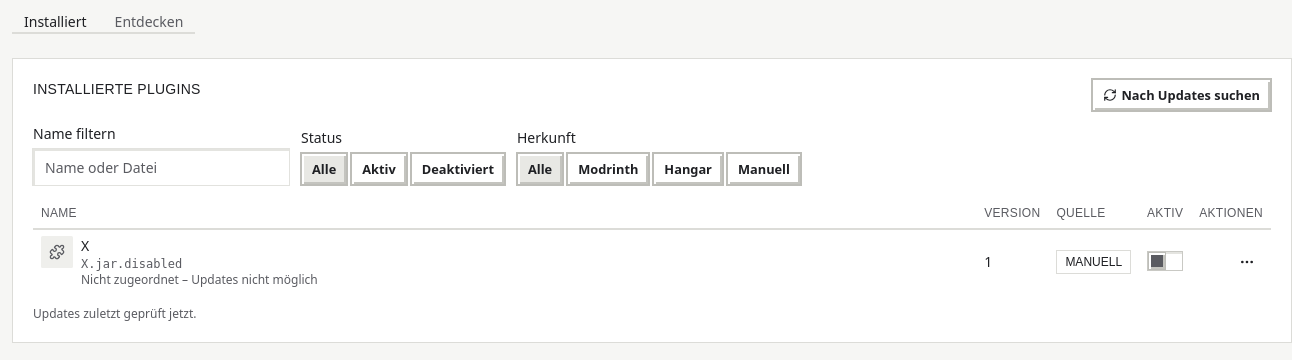
Scenario: PluginsTab – installed › reports a name clash when switching
Click the switch named "X aktiv".
click(1165, 260)  # box [1147,250,1183,270]
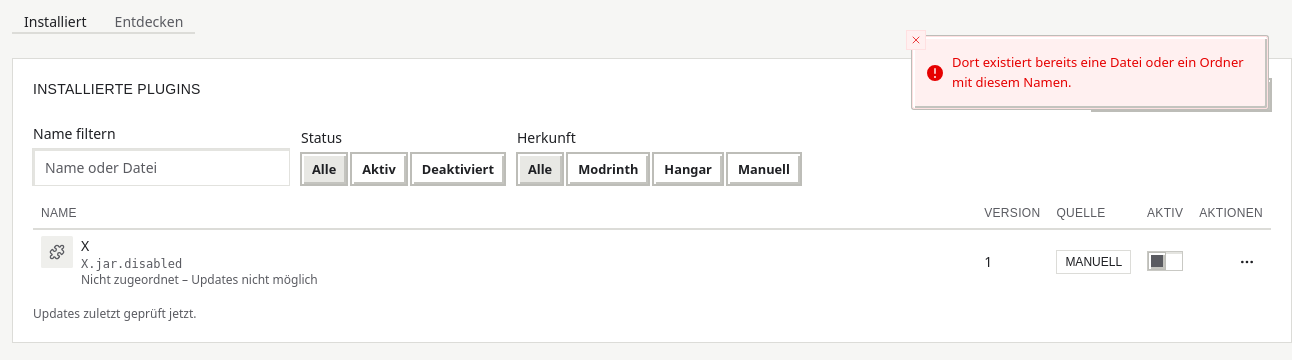
Result: the text "Dort existiert bereits eine Datei oder ein Ordner mit diesem Namen." is shown at [952,53,1251,92]
